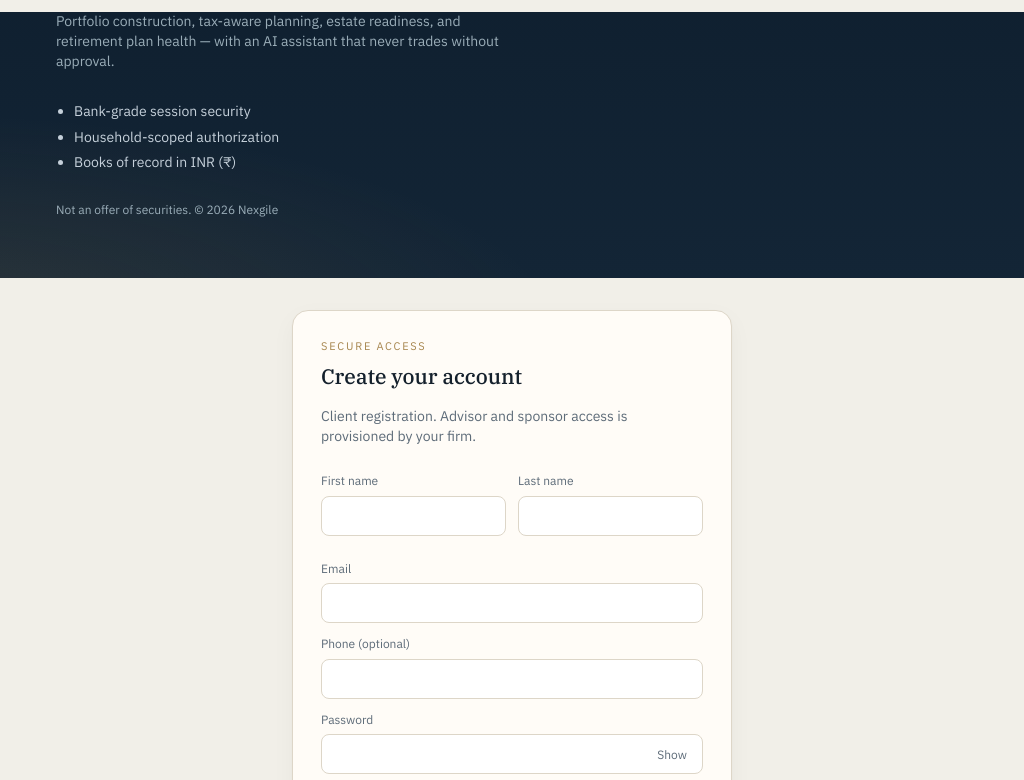
signup validation › requires matching passwords and terms
(page scrolled)
Type "Riya" into the field labelled "First name". click: [414, 516]
box: x1=321 y1=496 x2=506 y2=536
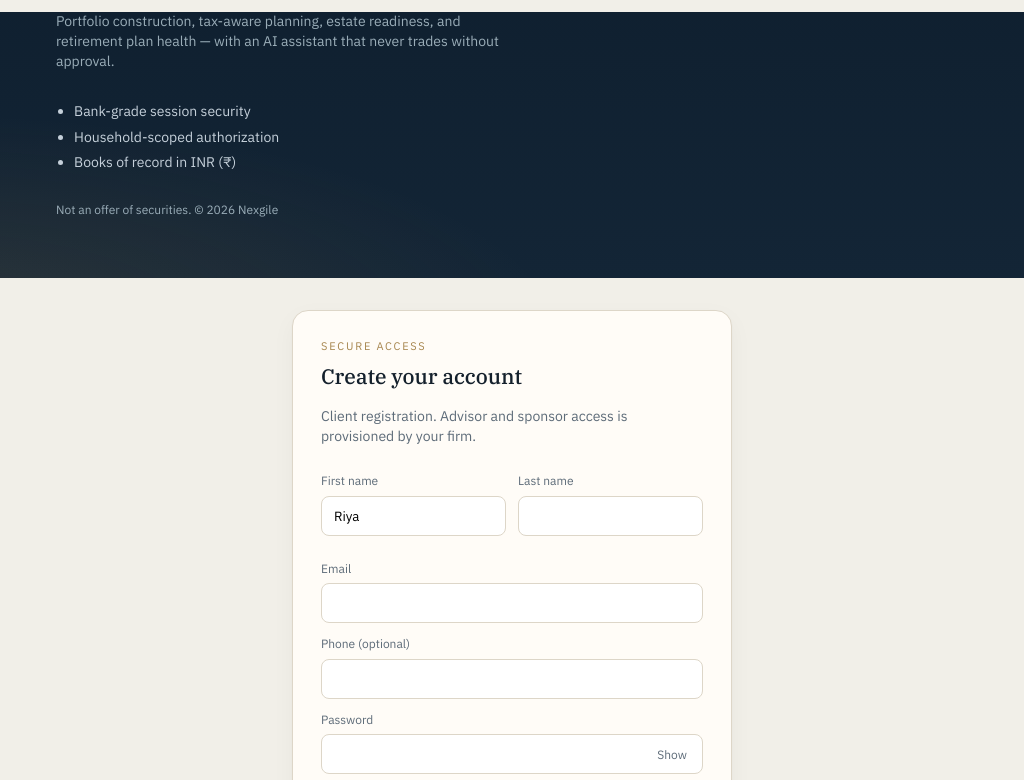
Type "Mehta" into the field labelled "Last name". click: [610, 516]
box: x1=518 y1=496 x2=703 y2=536
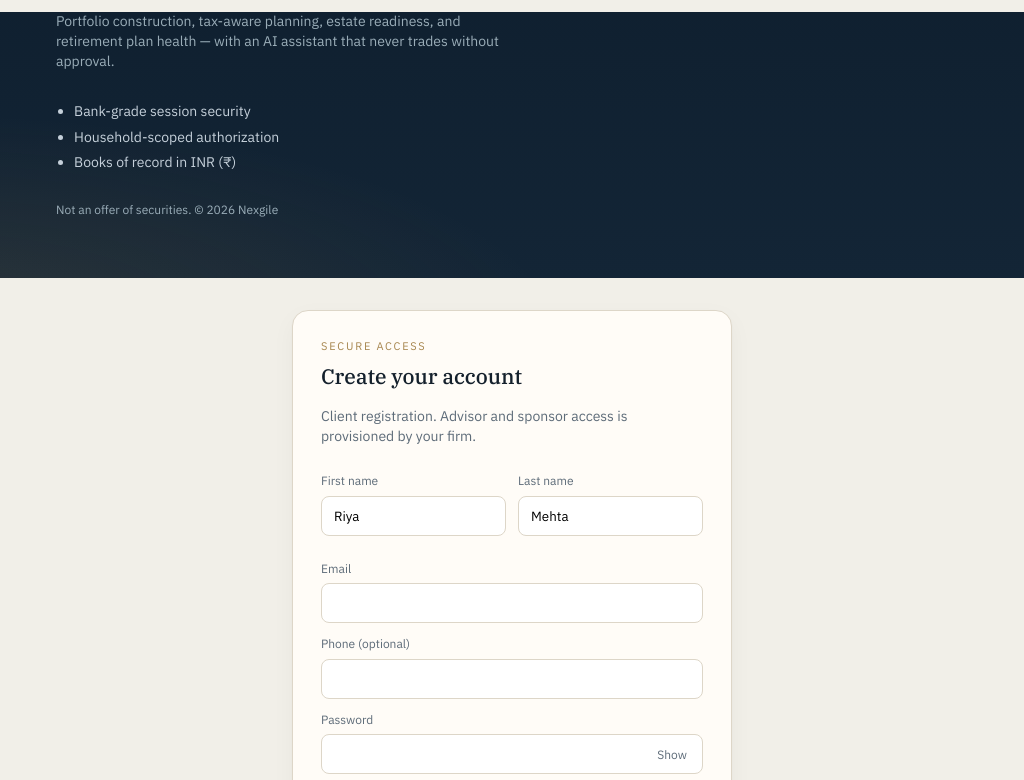
Type "riya@example.com" into the field labelled "Email". click: [512, 603]
box: x1=321 y1=583 x2=703 y2=623
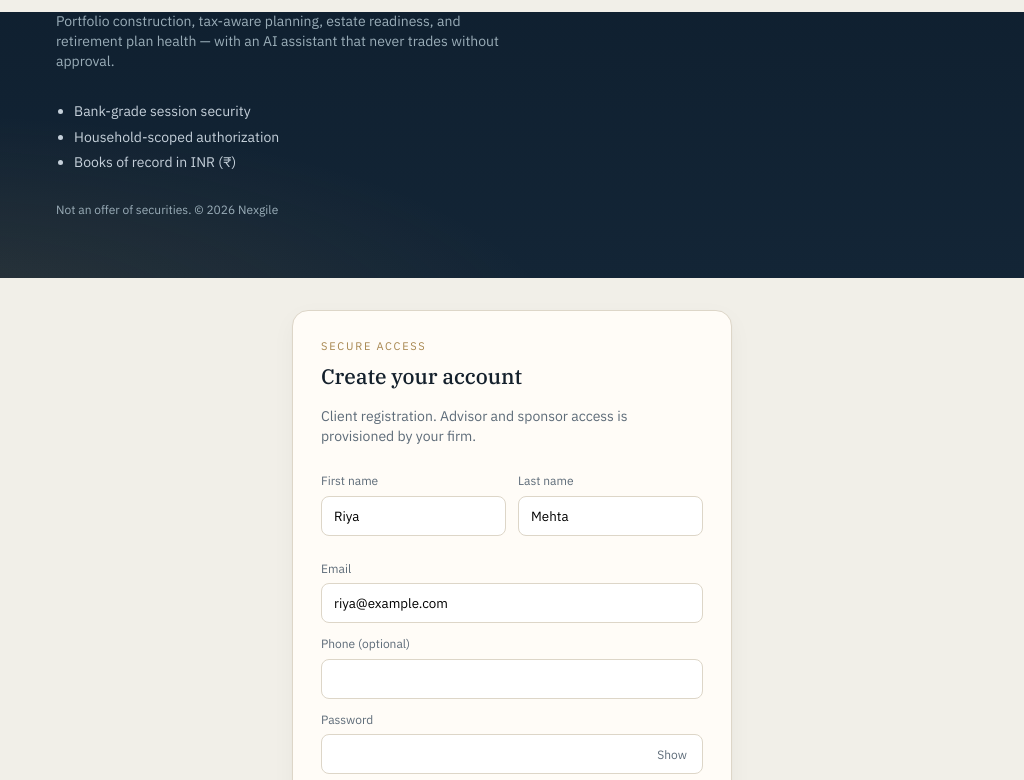
Type "SecurePass1!" into the password field labelled "Password". click: [512, 754]
box: x1=321 y1=734 x2=703 y2=774
(page scrolled)
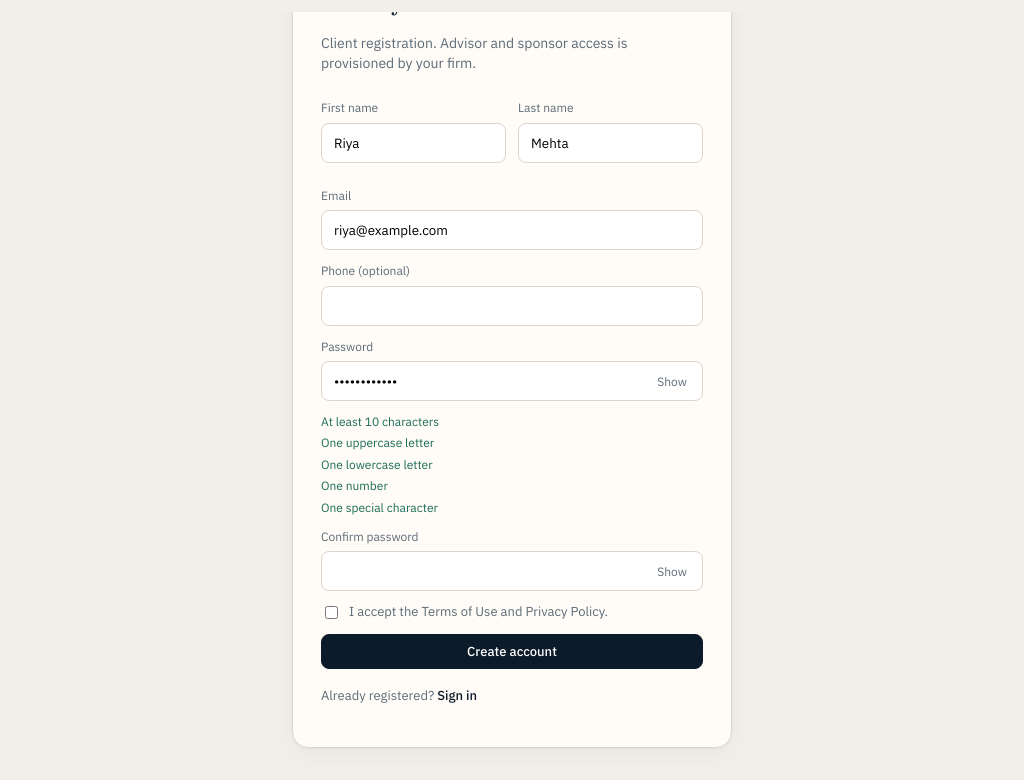
Type "other" into the password field labelled "Confirm password". click: [512, 571]
box: x1=321 y1=551 x2=703 y2=591
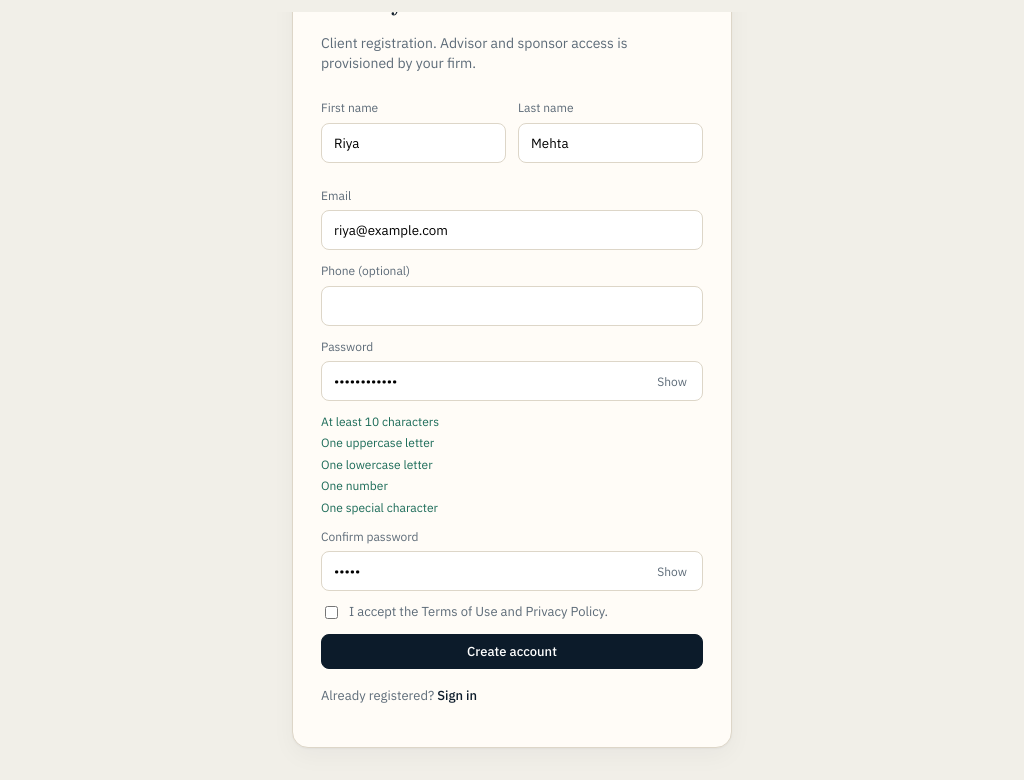
Click the button "Create account". click: [512, 652]
box: x1=321 y1=634 x2=703 y2=669
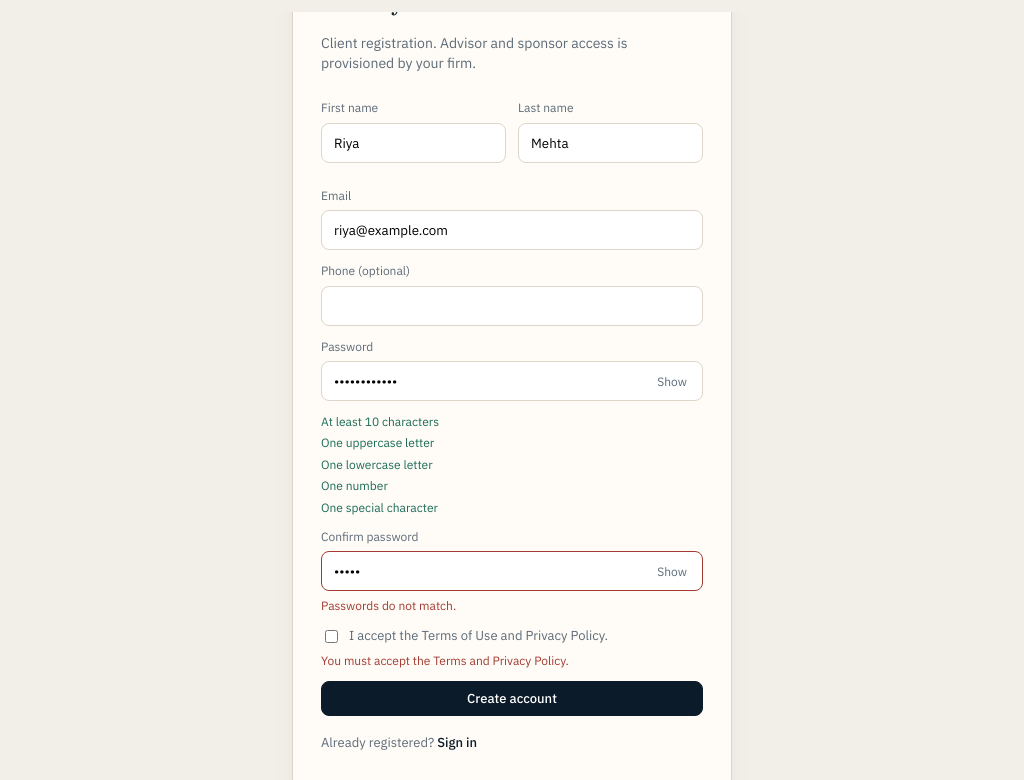
Expected: the text "Passwords do not match." is shown, x1=321 y1=598 x2=456 y2=613
